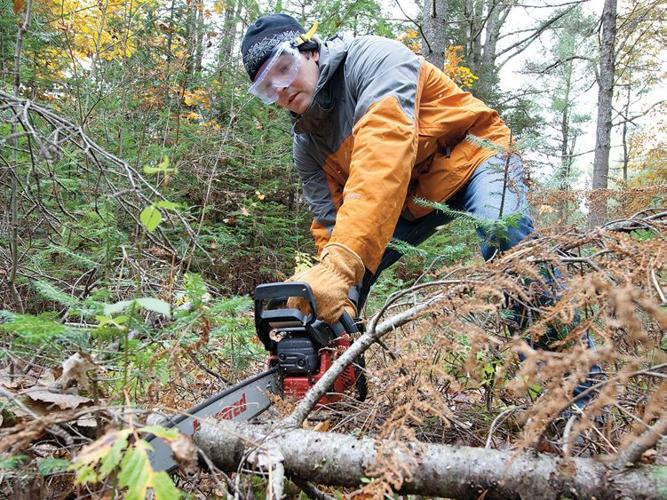person: (242, 12, 599, 448)
